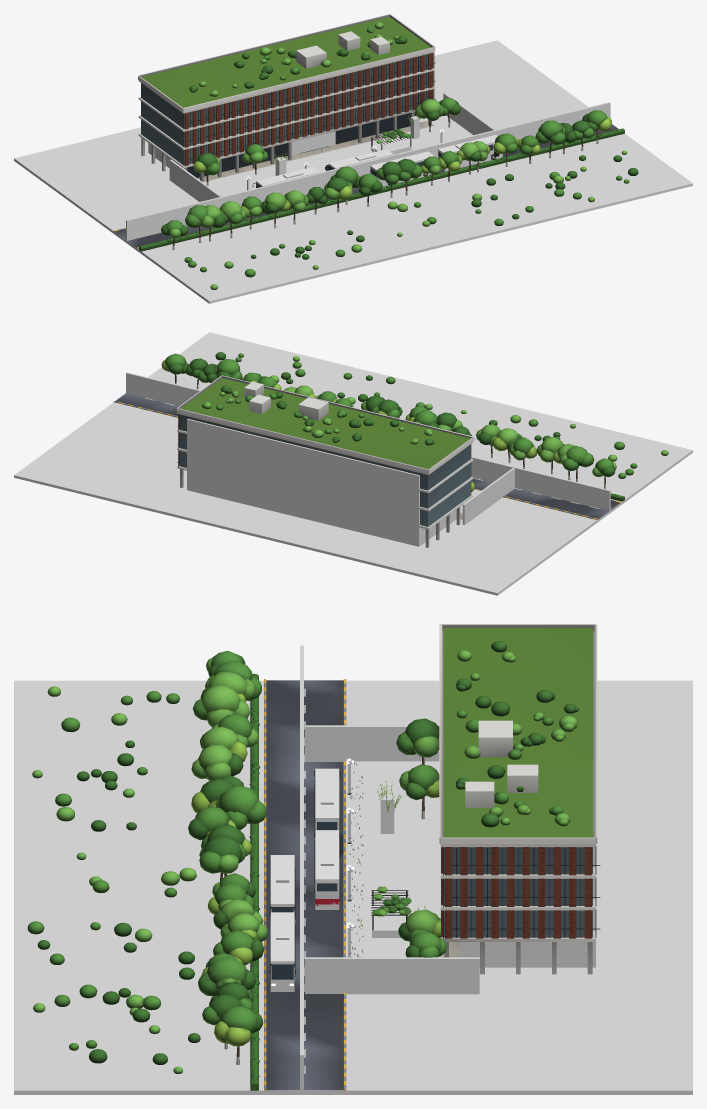
Rendered from zone_01_bus.glb.
3 views of the same model, one above another, from view 1: azimuth 30°, elevation 25°; view 2: azimuth 150°, elevation 25°; view 3: azimuth 270°, elevation 25° (orthographic). The views are drawn at different scales.
Visible parts, largest first — view 1: COL_ground, ENV_buildings, ENV_vegetation, COL_bien_nam, COL_sidewalk, ENV_ground, ENV_cay_mai, COL_bien_tay, COL_bien_dong, COL_ban_do, xe_bus_mesh, ENV_xe_bus_dau_1 (+1 smaller); view 2: COL_ground, COL_toa_nha, ENV_buildings, ENV_vegetation, COL_bien_nam, ENV_ground, ENV_cay_mai, COL_bien_tay; view 3: COL_ground, ENV_buildings, ENV_vegetation, ENV_ground, COL_sidewalk, COL_bien_dong, ENV_cay_mai, COL_bien_tay, ENV_props, COL_toa_nha, xe_bus_mesh, COL_bien_nam (+4 smaller).
Boxes of the visible parts, bbox=[...] form: COL_ground: bbox=[14, 40, 692, 303]; ENV_buildings: bbox=[138, 14, 435, 181]; ENV_vegetation: bbox=[139, 98, 638, 289]; COL_bien_nam: bbox=[126, 102, 610, 240]; COL_sidewalk: bbox=[203, 121, 472, 196]; ENV_ground: bbox=[115, 120, 618, 247]; ENV_cay_mai: bbox=[189, 22, 407, 96]; COL_bien_tay: bbox=[169, 159, 221, 201]; COL_bien_dong: bbox=[443, 93, 495, 135]; COL_ban_do: bbox=[291, 131, 335, 155]; xe_bus_mesh: bbox=[325, 149, 393, 170]; ENV_xe_bus_dau_1: bbox=[252, 167, 320, 187]; COL_ground: bbox=[14, 332, 692, 595]; COL_toa_nha: bbox=[187, 419, 456, 546]; ENV_buildings: bbox=[176, 375, 474, 547]; ENV_vegetation: bbox=[161, 352, 668, 501]; COL_bien_nam: bbox=[126, 372, 610, 510]; ENV_ground: bbox=[116, 393, 619, 519]; ENV_cay_mai: bbox=[201, 385, 434, 445]; COL_bien_tay: bbox=[462, 468, 514, 525]; COL_ground: bbox=[14, 680, 692, 1094]; ENV_buildings: bbox=[439, 624, 600, 974]; ENV_vegetation: bbox=[27, 650, 446, 1090]; ENV_ground: bbox=[266, 680, 460, 1090]; COL_sidewalk: bbox=[343, 761, 440, 957]; COL_bien_dong: bbox=[305, 957, 479, 994]; ENV_cay_mai: bbox=[456, 641, 578, 827]; COL_bien_tay: bbox=[305, 725, 439, 761]; ENV_props: bbox=[264, 679, 411, 1090]; COL_toa_nha: bbox=[460, 847, 595, 967]; xe_bus_mesh: bbox=[314, 830, 340, 905]; COL_bien_nam: bbox=[300, 645, 303, 1090].
Bounding box in the file's own units: 100 × 18.2 × 70.
5 materials, 2 textured.
